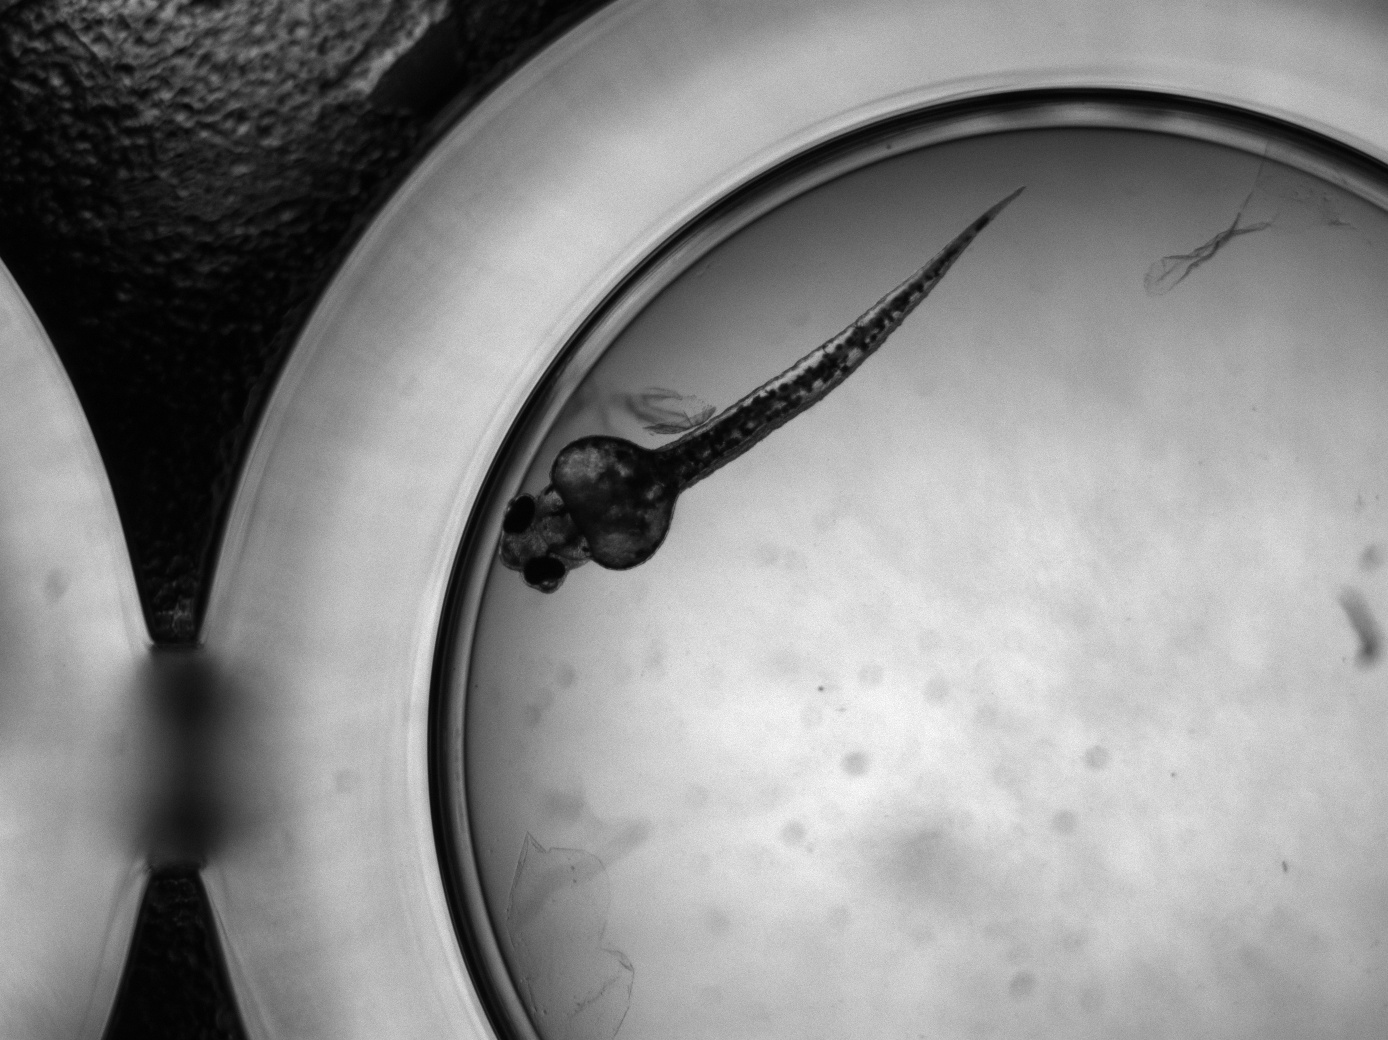debris: (500, 831, 637, 1040), (1143, 156, 1344, 295)
embryo: (497, 180, 1030, 595)
eye: (501, 495, 535, 534), (522, 556, 566, 586)
yolksac: (551, 435, 674, 571)
